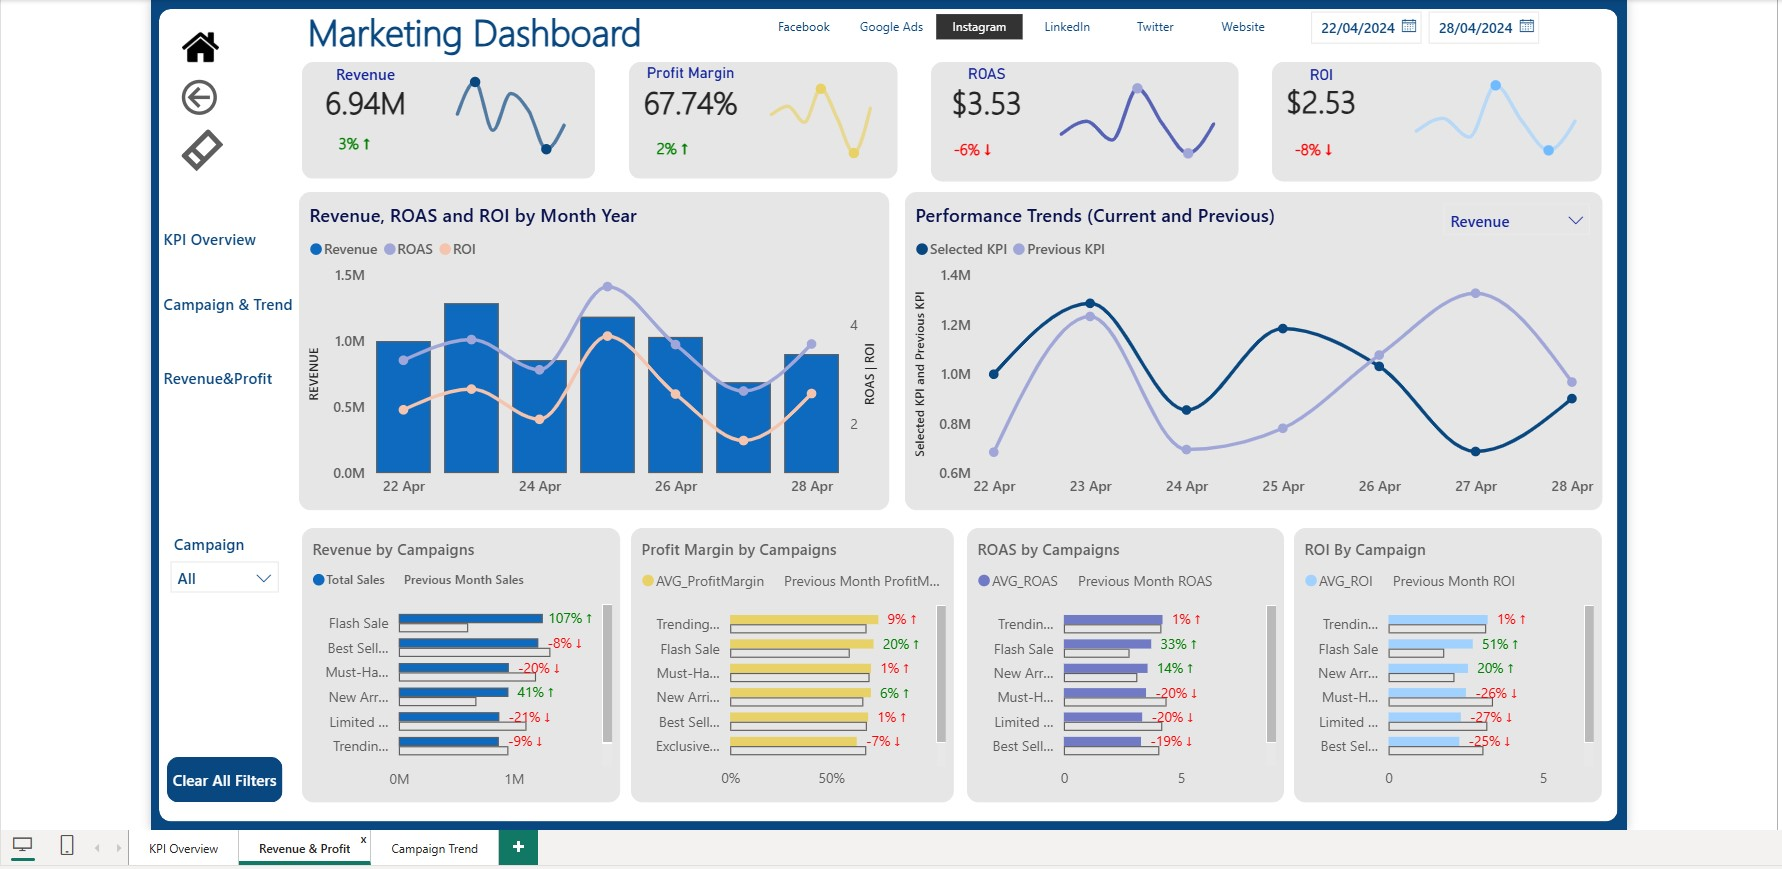

This screenshot's page, from the dashboard's own definition file:
{"tool":"powerbi","page":{"name":"Revenue & Profit","canvas":[1280,720],"ordinal":1},"visuals":[{"type":"shape","box":[6.8,7.9,1265.4,704.7],"z":0},{"type":"shape","box":[972.7,54,285.9,103.6],"z":1000},{"type":"shape","box":[676.6,54,266.8,103.6],"z":2000},{"type":"shape","box":[414.3,54,233,101.3],"z":3000},{"type":"shape","box":[130.6,54,254.4,101.3],"z":4000},{"type":"clusteredBarChart","fields":{"Category":["media_all_channels.campaign"],"Y":["_Measures.Total Sales","_Measures.Previous Sales"]},"box":[130.6,458.2,275.8,237.5],"z":5000},{"type":"card","title":"Revenue","fields":{"Values":["Sum(media_all_channels.revenue)"]},"box":[130.6,55.2,110.3,50.7],"z":6000},{"type":"card","fields":{"Values":["_Measures.Variance"]},"box":[140.7,103.6,72,46.2],"z":7000},{"type":"lineChart","fields":{"Y":["_Measures_new.MAX_value","_Measures.Total Sales","_Measures_new.Min_value"],"Category":["Calendar.Date"]},"box":[251,46.2,122.7,97.9],"z":8000},{"type":"slicer","fields":{"Values":["Calendar.Date"]},"box":[993.5,0,237,46.6],"z":9000},{"type":"card","title":"Profit Margin","fields":{"Values":["Avg(media_all_channels.profit_margin)"]},"box":[413.2,55.2,110.3,52.9],"z":10000},{"type":"card","fields":{"Values":["_Measures.Variance Profit Margin"]},"box":[416.5,104.7,72,51.8],"z":11000},{"type":"card","fields":{"Values":["Calendar.Variance ROAS"]},"box":[676.6,106.9,72,50.7],"z":12000},{"type":"card","title":"ROAS","fields":{"Values":["Avg(media_all_channels.roas)"]},"box":[676.6,56.3,96.8,50.7],"z":13000},{"type":"card","title":"ROI","fields":{"Values":["Avg(media_all_channels.roi)"]},"box":[972.7,57.4,85.6,47.3],"z":14000},{"type":"card","fields":{"Values":["_Measures.Variance ROI"]},"box":[972.7,106.9,72,50.7],"z":15000},{"type":"lineChart","fields":{"Y":["Avg(media_all_channels.profit_margin)","_Measures_new.MAX_value_Profit_margin","_Measures_new.MIN_value_Profit_margin"],"Category":["Calendar.Date"]},"box":[523.5,52.9,116,102.4],"z":16000},{"type":"lineChart","fields":{"Category":["Calendar.Date"],"Y":["_Measures_new.AVG_ROAS","_Measures_new.MAX_value_ROAS","_Measures_new.MIN_value_ROAS"]},"box":[774.5,56.3,162.1,100.2],"z":17000},{"type":"lineChart","fields":{"Category":["Calendar.Date"],"Y":["_Measures_new.AVG_ROI","_Measures_new.MIN_value_ROI","_Measures_new.max_value_ROI"]},"box":[1083,54,167.7,100.2],"z":18000},{"type":"lineChart","fields":{"Category":["Calendar.Date"],"Y":["_Measures_new.Selected KPI","_Measures_new.Previous KPI"]},"box":[654.1,166.6,604.5,275.8],"z":19000},{"type":"slicer","fields":{"Values":["KPI SELECTOR.KPI"]},"box":[1111.1,166.6,147.5,40.5],"z":20000},{"type":"lineClusteredColumnComboChart","fields":{"Category":["Calendar.Date"],"Y":["_Measures.Total Sales"],"Y2":["_Measures_new.AVG_ROAS","_Measures_new.AVG_ROI"]},"box":[128.3,166.6,512.2,275.8],"z":21000},{"type":"clusteredBarChart","fields":{"Category":["media_all_channels.campaign"],"Y":["_Measures_new.AVG_ProfitMargin","_Measures.Previous Month ProfitMargin"]},"box":[416.5,458.2,280.3,237.5],"z":22000},{"type":"clusteredBarChart","fields":{"Category":["media_all_channels.campaign"],"Y":["_Measures_new.AVG_ROAS","_Measures.Previous Month ROAS"]},"box":[708.1,458.2,274.7,237.5],"z":23000},{"type":"clusteredBarChart","fields":{"Category":["media_all_channels.campaign"],"Y":["_Measures_new.AVG_ROI","_Measures.Previous Month ROI"]},"box":[991.8,458.2,266.8,237.5],"z":24000},{"type":"slicer","fields":{"Values":["media_all_channels.campaign"]},"box":[7,457.9,113.7,62.9],"z":25000},{"type":"actionButton","box":[6.8,184.6,100.2,45],"z":26000},{"type":"actionButton","box":[6.8,240.9,130.6,45],"z":27000},{"type":"actionButton","box":[6.8,305.1,130.6,45],"z":28000},{"type":"actionButton","box":[13.5,656.3,100.2,39.4],"z":29000},{"type":"slicer","fields":{"Values":["media_all_channels.channel"]},"box":[503.2,5.6,505.5,36],"z":30000},{"type":"textbox","box":[130.6,0,327.6,66.4],"z":31000},{"type":"actionButton","box":[21.4,64.2,50.7,40.5],"z":32000},{"type":"actionButton","box":[22.5,108.1,49.5,43.9],"z":33000},{"type":"image","box":[20.3,20.3,46.2,41.7],"z":34000}]}

Visuals, with their boxes on the page's 1280x720 design canvas (x1, y1, x2, y2). These are canvas units, not pixel positions in the 1782x869 screenshot, which may show the page scaled, cropped or inside an application window:
shape: bbox(7, 8, 1272, 713)
shape: bbox(973, 54, 1259, 158)
shape: bbox(677, 54, 943, 158)
shape: bbox(414, 54, 647, 155)
shape: bbox(131, 54, 385, 155)
clusteredBarChart - media_all_channels.campaign x _Measures.Total Sales: bbox(131, 458, 406, 696)
"Revenue" card: bbox(131, 55, 241, 106)
card - _Measures.Variance: bbox(141, 104, 213, 150)
lineChart - _Measures_new.MAX_value x _Measures.Total Sales: bbox(251, 46, 374, 144)
slicer - Calendar.Date: bbox(994, 0, 1230, 47)
"Profit Margin" card: bbox(413, 55, 524, 108)
card - _Measures.Variance Profit Margin: bbox(416, 105, 488, 156)
card - Calendar.Variance ROAS: bbox(677, 107, 749, 158)
"ROAS" card: bbox(677, 56, 773, 107)
"ROI" card: bbox(973, 57, 1058, 105)
card - _Measures.Variance ROI: bbox(973, 107, 1045, 158)
lineChart - Avg(media_all_channels.profit_margin) x _Measures_new.MAX_value_Profit_margin: bbox(524, 53, 640, 155)
lineChart - Calendar.Date x _Measures_new.AVG_ROAS: bbox(774, 56, 937, 156)
lineChart - Calendar.Date x _Measures_new.AVG_ROI: bbox(1083, 54, 1251, 154)
lineChart - Calendar.Date x _Measures_new.Selected KPI: bbox(654, 167, 1259, 442)
slicer - KPI SELECTOR.KPI: bbox(1111, 167, 1259, 207)
lineClusteredColumnComboChart - Calendar.Date x _Measures.Total Sales: bbox(128, 167, 640, 442)
clusteredBarChart - media_all_channels.campaign x _Measures_new.AVG_ProfitMargin: bbox(416, 458, 697, 696)
clusteredBarChart - media_all_channels.campaign x _Measures_new.AVG_ROAS: bbox(708, 458, 983, 696)
clusteredBarChart - media_all_channels.campaign x _Measures_new.AVG_ROI: bbox(992, 458, 1259, 696)
slicer - media_all_channels.campaign: bbox(7, 458, 121, 521)
actionButton: bbox(7, 185, 107, 230)
actionButton: bbox(7, 241, 137, 286)
actionButton: bbox(7, 305, 137, 350)
actionButton: bbox(14, 656, 114, 696)
slicer - media_all_channels.channel: bbox(503, 6, 1009, 42)
textbox: bbox(131, 0, 458, 66)
actionButton: bbox(21, 64, 72, 105)
actionButton: bbox(22, 108, 72, 152)
image: bbox(20, 20, 66, 62)
